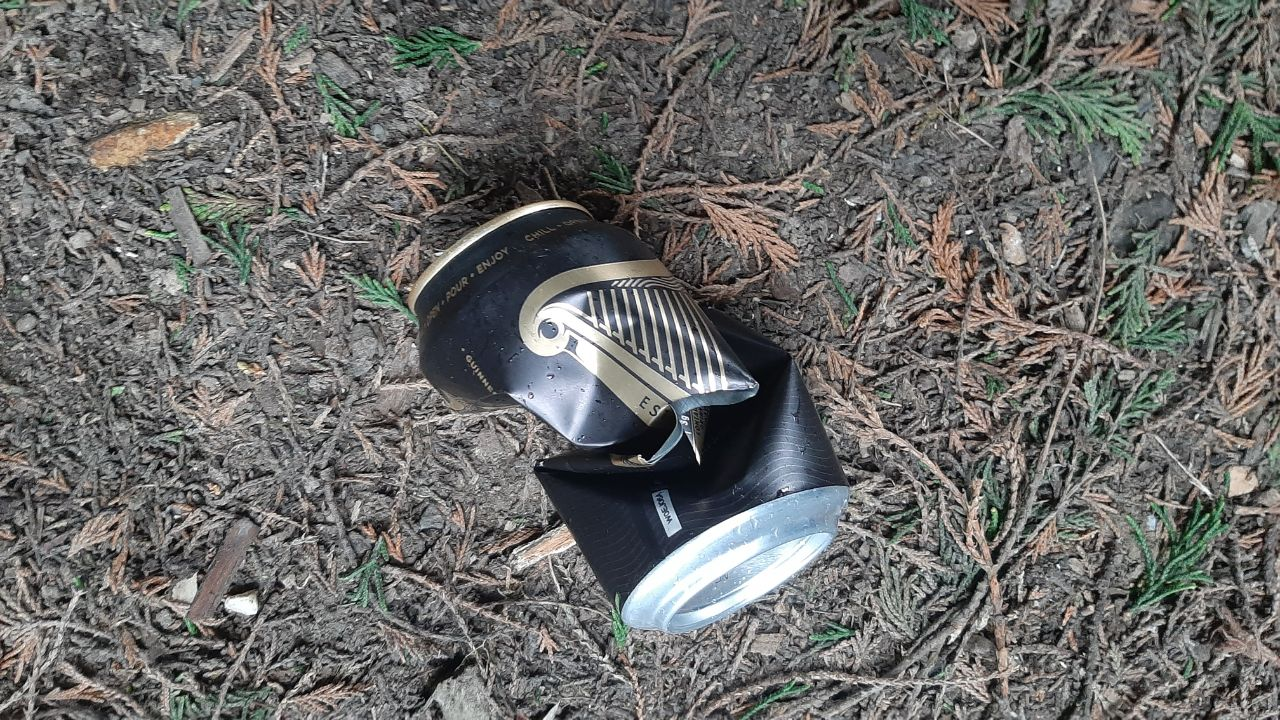Can: (406, 198, 852, 636)
